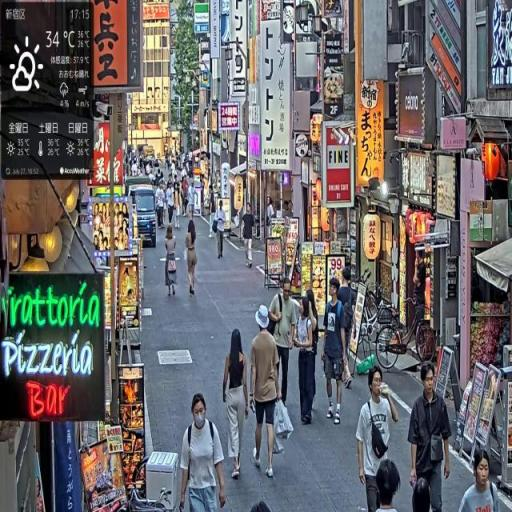person: (407, 364, 454, 512), (355, 366, 401, 511), (179, 392, 228, 512), (251, 304, 283, 483), (223, 328, 252, 482), (321, 277, 350, 426), (271, 278, 299, 410), (293, 292, 319, 425), (459, 450, 504, 512), (336, 270, 358, 388), (164, 224, 179, 299), (185, 220, 199, 298), (241, 204, 256, 270), (214, 200, 228, 263), (156, 183, 167, 230)
